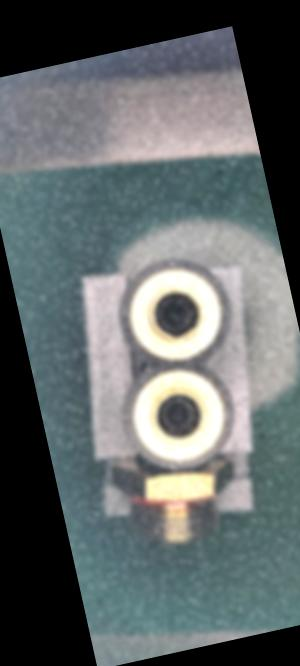bump: (164, 330, 197, 349)
off-centered: (148, 291, 198, 333)
